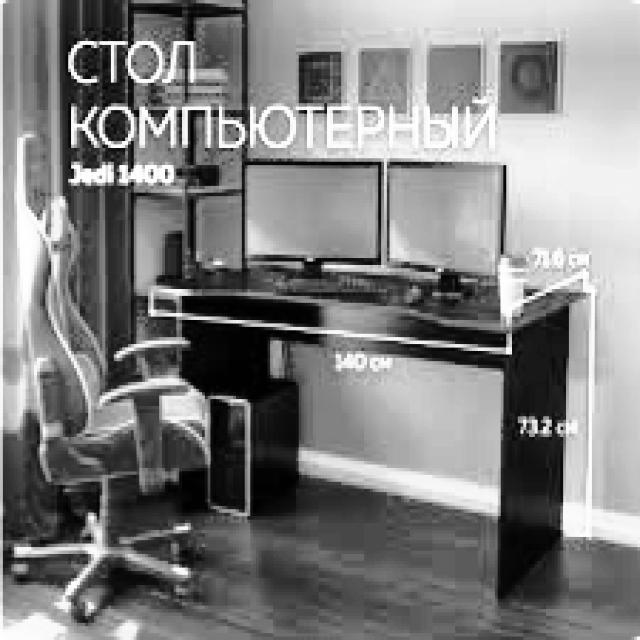book: (10, 131, 236, 625)
table: (140, 262, 594, 598)
